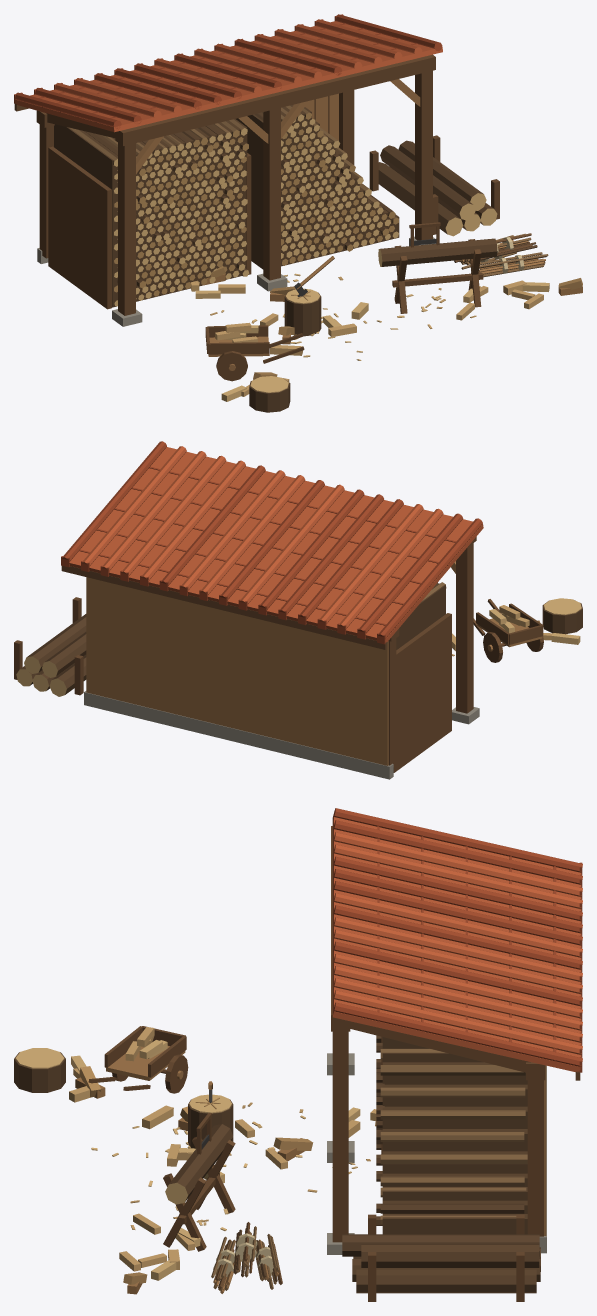
Rendered from Holzhacker.fbx.
The picture shows the model from 3 angles, top to bottom: view 1: azimuth 30°, elevation 25°; view 2: azimuth 150°, elevation 25°; view 3: azimuth 270°, elevation 25°; orthographic projection. The views are drawn at different scales.
Parts seen in each view (by area): view 1: Holzhacker_0; view 2: Holzhacker_0; view 3: Holzhacker_0.
Boxes of the visible parts, <box> form: Holzhacker_0: <box>14,14,582,412</box>; Holzhacker_0: <box>14,441,582,779</box>; Holzhacker_0: <box>14,808,582,1301</box>.
Size of the model in its own units: 3.53 by 1.77 by 3.5.
